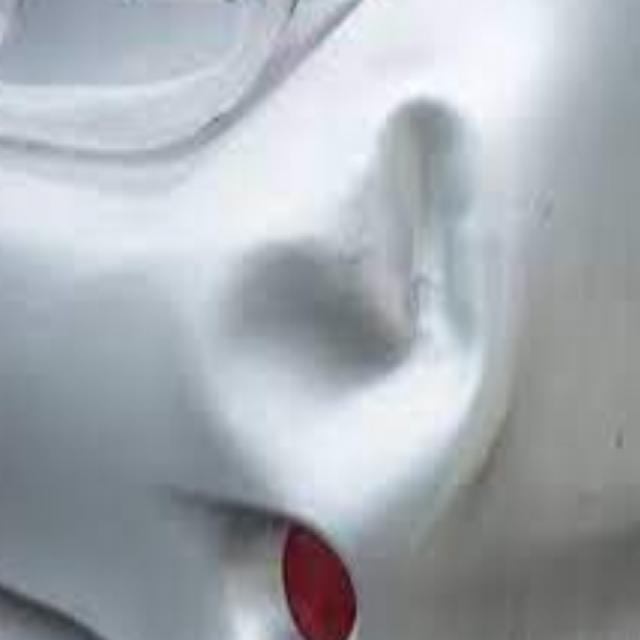dents: (212, 85, 512, 559)
